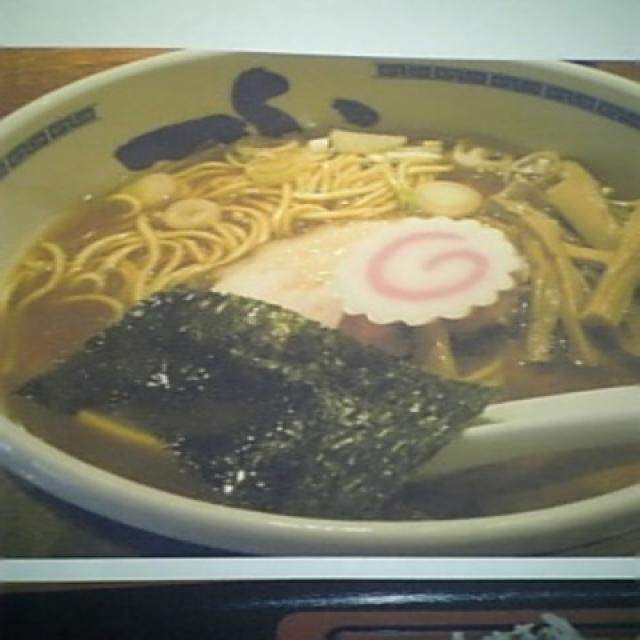面条主食: (0, 53, 640, 572)
